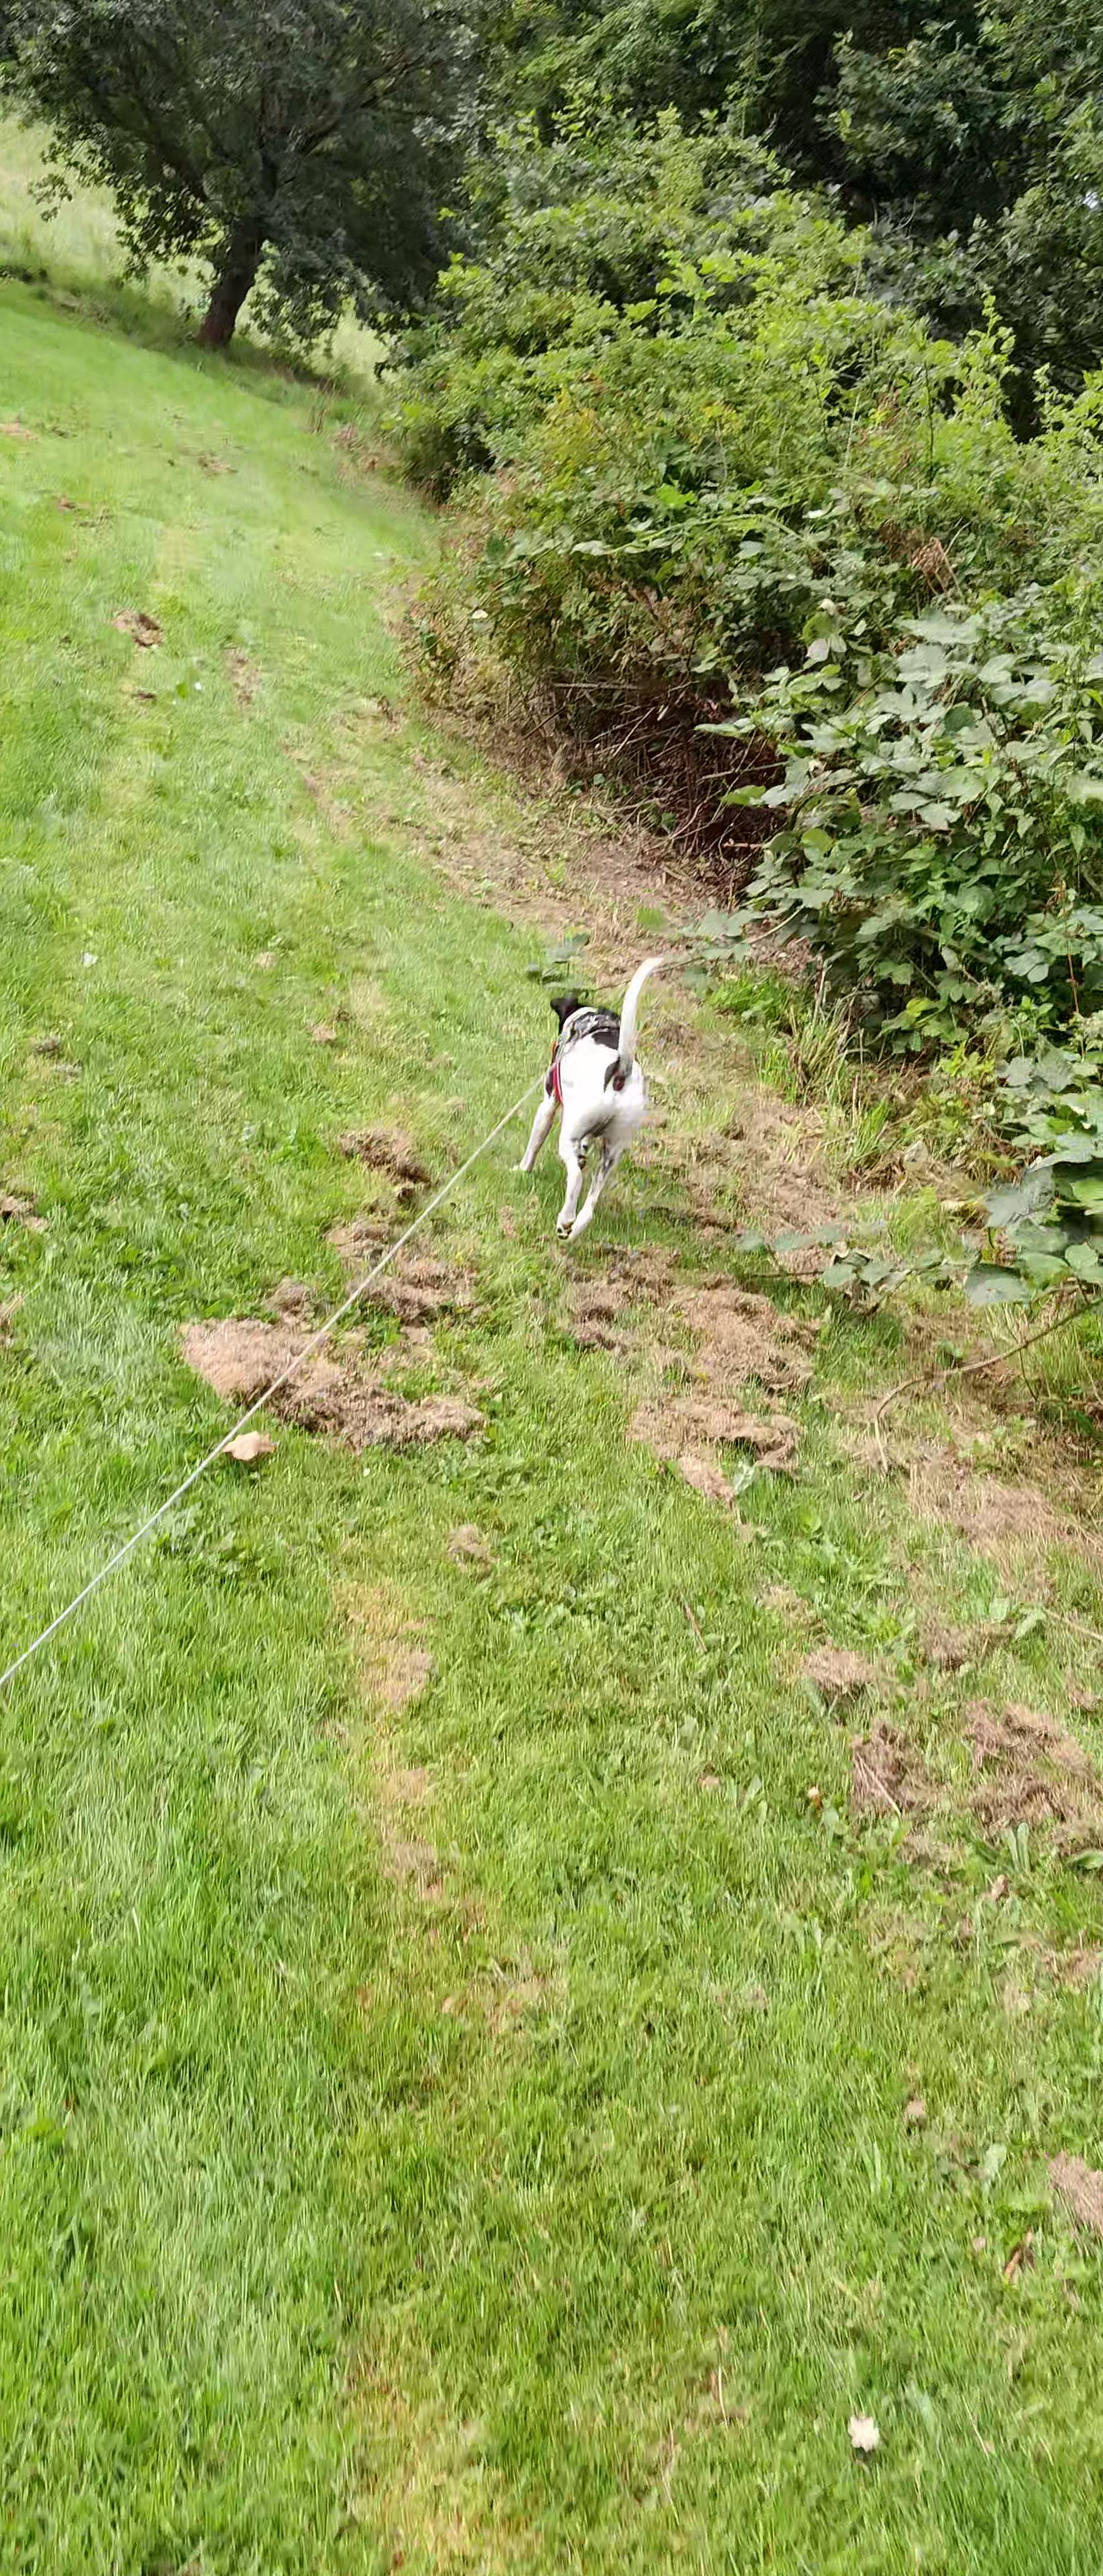Dog: (505, 930, 687, 1255)
